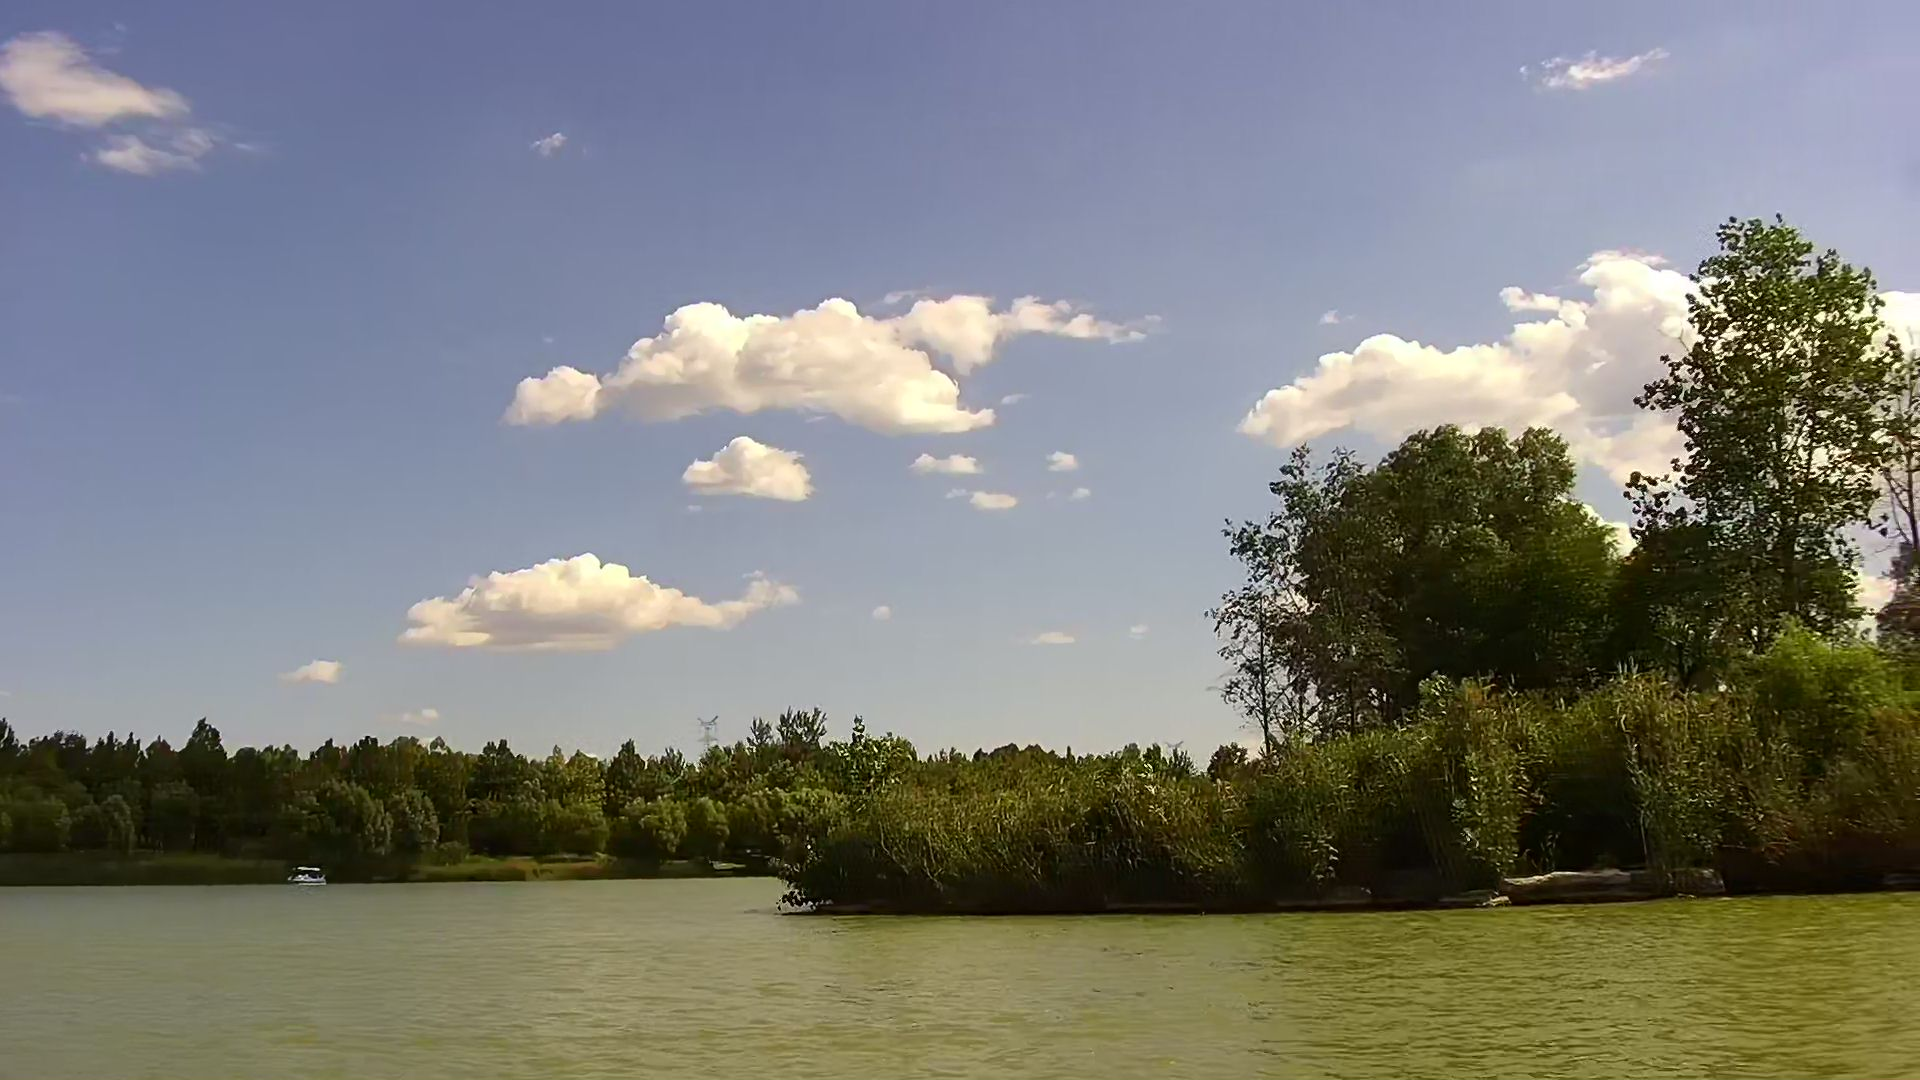boat: (284, 861, 328, 887)
